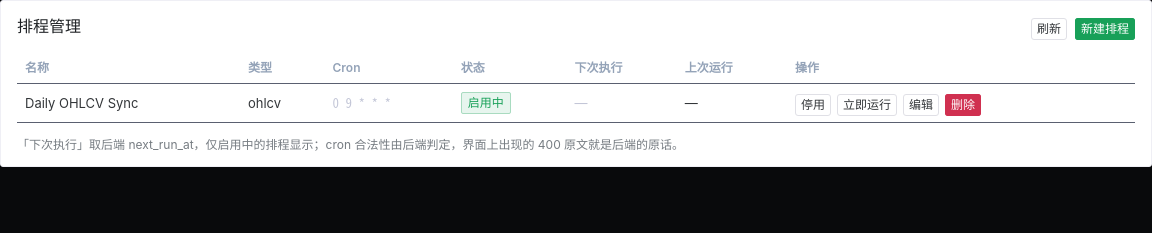
Test case: toggle / run-now / delete（断言 2 的后三条腿） › run-now 失败时告警条显示后端原话，且不假装成功
Click the button with test id "schedule-run-12": coordinates (867, 105) 837,94 -> 897,116
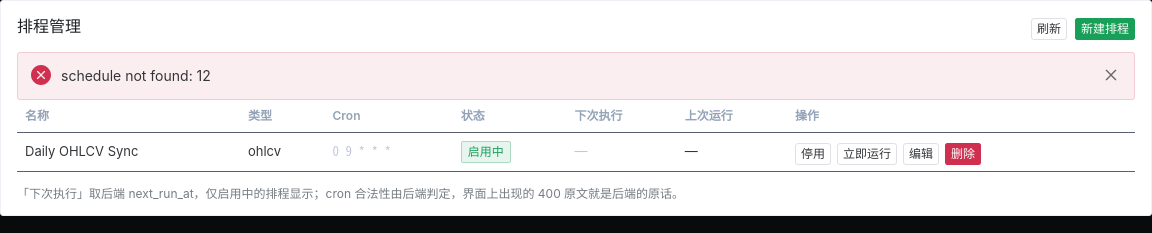
Expected: the message with test id "schedule-error" reads "schedule not found: 12", 61,67 -> 211,84
